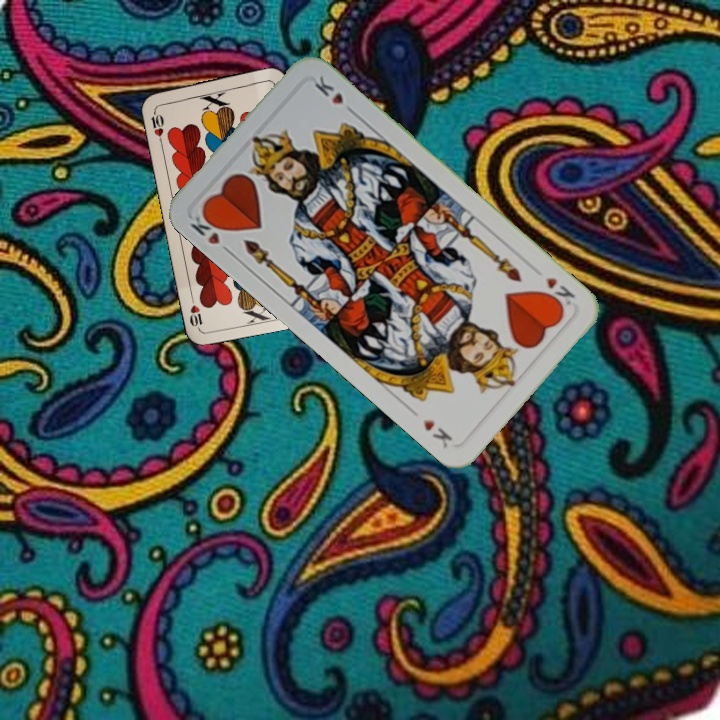H10: (147, 105, 166, 146)
HK: (186, 206, 235, 258), (538, 273, 578, 312)
